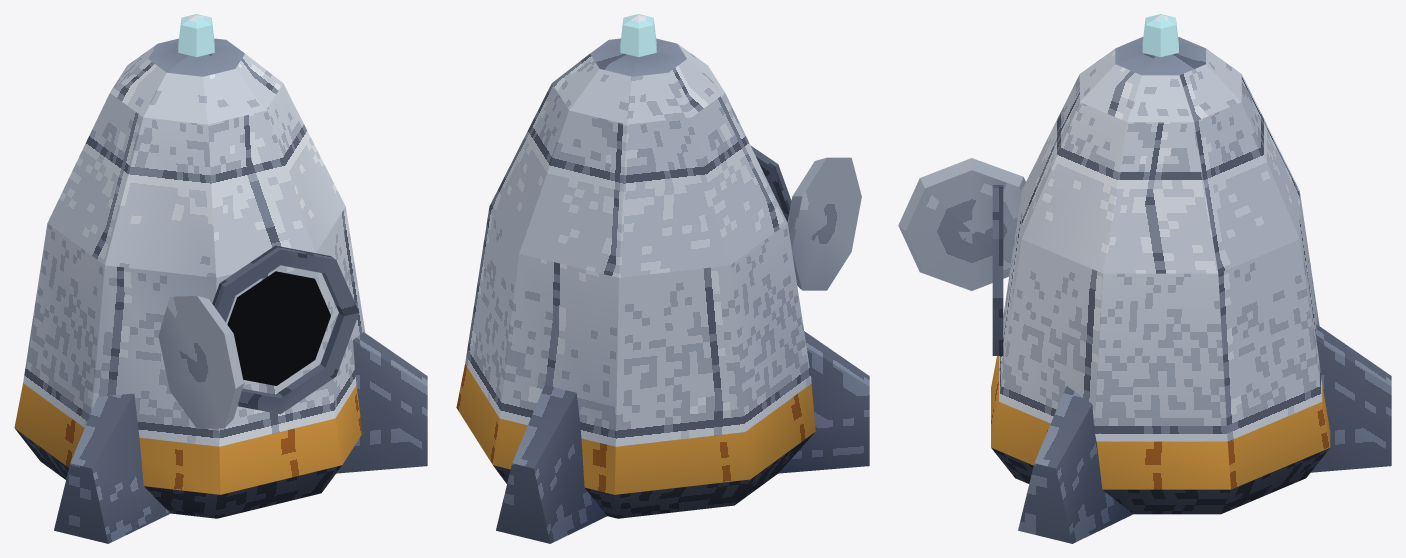
File: ship.escape_pod__open.glb
The picture shows the model from 3 angles, left to right: view 1: azimuth 30°, elevation 25°; view 2: azimuth 150°, elevation 25°; view 3: azimuth 270°, elevation 25°; orthographic projection.
Parts seen in each view (by area): view 1: kit_body, kit_fins, kit_hatch_dark, kit_hatch, kit_hatch_ring, kit_beacon; view 2: kit_body, kit_fins, kit_hatch, kit_beacon, kit_hatch_ring; view 3: kit_body, kit_fins, kit_hatch, kit_hatch_ring, kit_beacon.
Part boxes in pixels (x1,y1,x2,y2): kit_body: (14, 38, 365, 518); kit_fins: (54, 332, 427, 543); kit_hatch_dark: (227, 271, 330, 385); kit_hatch: (158, 296, 243, 428); kit_hatch_ring: (212, 245, 359, 414); kit_beacon: (178, 14, 214, 57); kit_body: (456, 38, 815, 518); kit_fins: (496, 331, 869, 543); kit_hatch: (787, 157, 861, 290); kit_beacon: (620, 14, 656, 57); kit_hatch_ring: (751, 146, 791, 222); kit_body: (991, 37, 1330, 514); kit_fins: (1018, 324, 1391, 543); kit_hatch: (898, 158, 1025, 290); kit_hatch_ring: (992, 185, 1003, 355); kit_beacon: (1142, 14, 1178, 57).
Bounding box in the file's own units: 2.47 × 2.76 × 2.82.
Materials: 8 (8 with a texture image).
